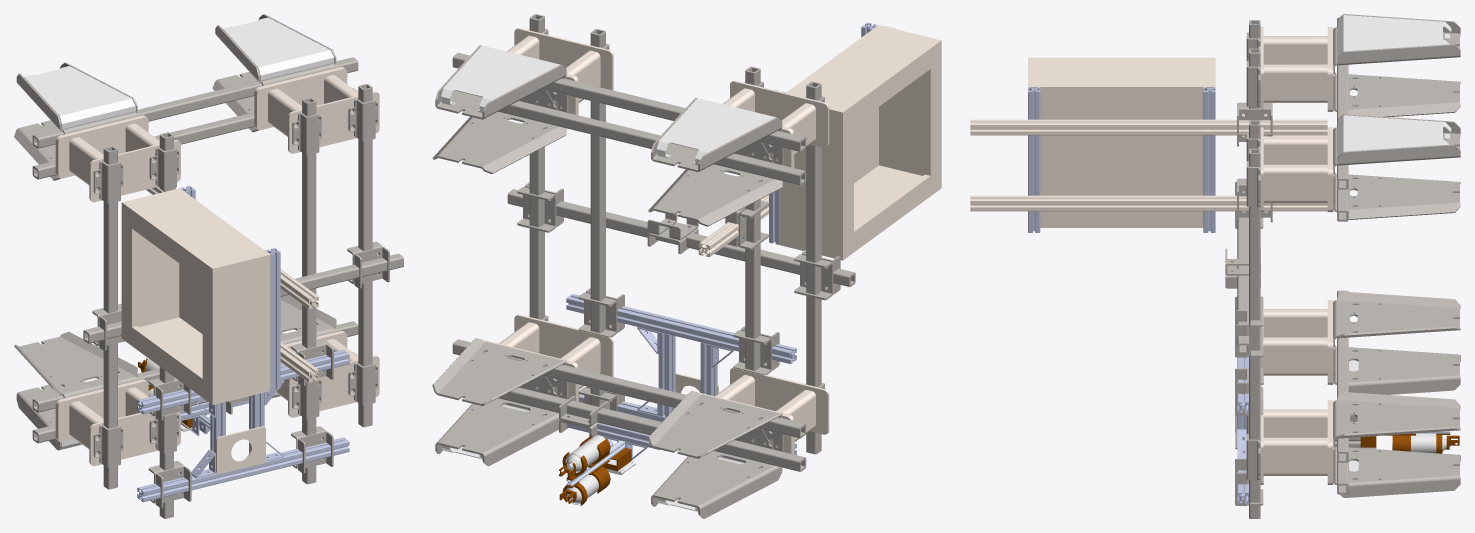
The model's file is mid_level_asm.obj.
3 renders of one model, left to right at view 1: azimuth 30°, elevation 25°; view 2: azimuth 150°, elevation 25°; view 3: azimuth 270°, elevation 25°, orthographic. The views are drawn at different scales.
Parts seen in each view (by area): view 1: mesh814, mesh595, mesh818, mesh333, mesh815, mesh603, mesh411, mesh89, mesh825, mesh616, mesh216, mesh614 (+47 smaller); view 2: mesh585, mesh411, mesh388, mesh333, mesh561, mesh818, mesh220, mesh815, mesh816, mesh827, mesh218, mesh620 (+36 smaller); view 3: mesh817, mesh411, mesh388, mesh333, mesh561, mesh815, mesh587, mesh581, mesh538, mesh170, mesh577, mesh589 (+35 smaller).
Part boxes in pixels (<box>): mesh814: <box>212,254,270,404</box>; mesh595: <box>90,92,379,466</box>; mesh818: <box>121,202,212,404</box>; mesh333: <box>24,17,329,115</box>; mesh815: <box>122,188,269,268</box>; mesh603: <box>58,69,347,442</box>; mesh411: <box>20,300,333,393</box>; mesh89: <box>109,101,374,467</box>; mesh825: <box>137,232,179,326</box>; mesh616: <box>110,88,371,489</box>; mesh216: <box>38,62,358,441</box>; mesh614: <box>103,87,362,488</box>; mesh585: <box>514,29,827,434</box>; mesh411: <box>439,342,778,456</box>; mesh388: <box>439,111,773,219</box>; mesh333: <box>443,45,775,152</box>; mesh561: <box>439,398,773,505</box>; mesh818: <box>843,40,941,260</box>; mesh220: <box>452,58,799,470</box>; mesh815: <box>786,25,940,112</box>; mesh816: <box>780,109,842,260</box>; mesh827: <box>879,73,924,175</box>; mesh218: <box>454,53,804,460</box>; mesh620: <box>530,19,814,454</box>; mesh817: <box>1033,87,1210,227</box>; mesh411: <box>1337,300,1459,436</box>; mesh388: <box>1348,74,1459,209</box>; mesh333: <box>1344,15,1444,151</box>; mesh561: <box>1348,347,1459,482</box>; mesh815: <box>1028,57,1215,86</box>; mesh587: <box>1263,73,1327,200</box>; mesh581: <box>1263,346,1327,473</box>; mesh538: <box>1337,45,1460,163</box>; mesh170: <box>970,131,1327,210</box>; mesh577: <box>1263,45,1327,164</box>; mesh589: <box>1263,318,1327,437</box>.
Bounding box in the file's own units: 1.24 × 1.42 × 1.59.
